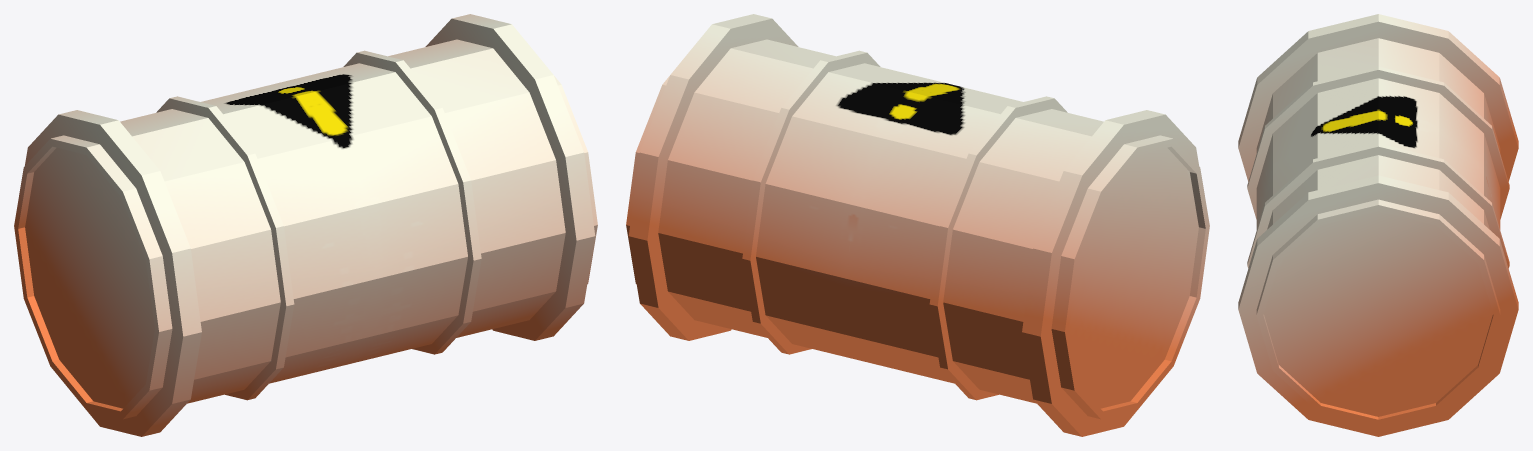
File: Mesh_Car_Tail.fbx
3 renders of one model, left to right at view 1: azimuth 30°, elevation 25°; view 2: azimuth 150°, elevation 25°; view 3: azimuth 270°, elevation 25°, orthographic. The views are drawn at different scales.
Parts seen in each view (by area): view 1: Cylinder.002; view 2: Cylinder.002; view 3: Cylinder.002.
Part boxes in pixels (x1,y1,x2,y2): Cylinder.002: [14, 14, 597, 436]; Cylinder.002: [626, 14, 1209, 436]; Cylinder.002: [1238, 14, 1518, 436].
Bounding box in the file's own units: 194 × 128 × 128.
